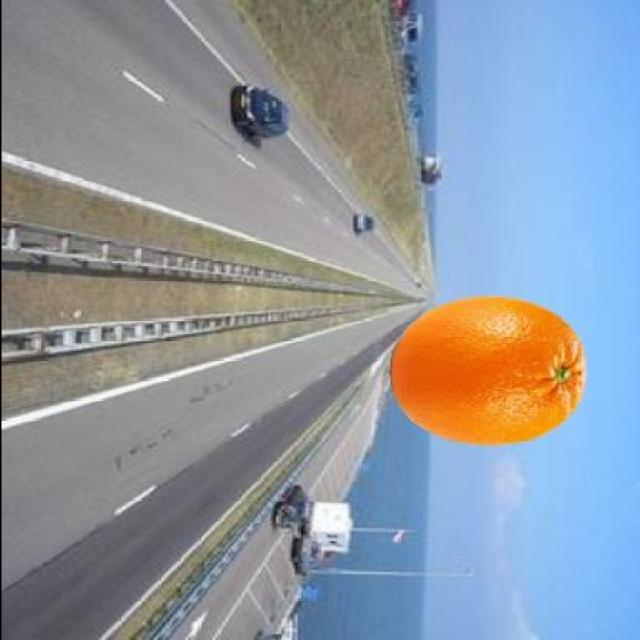Orange: (388, 292, 586, 446)
